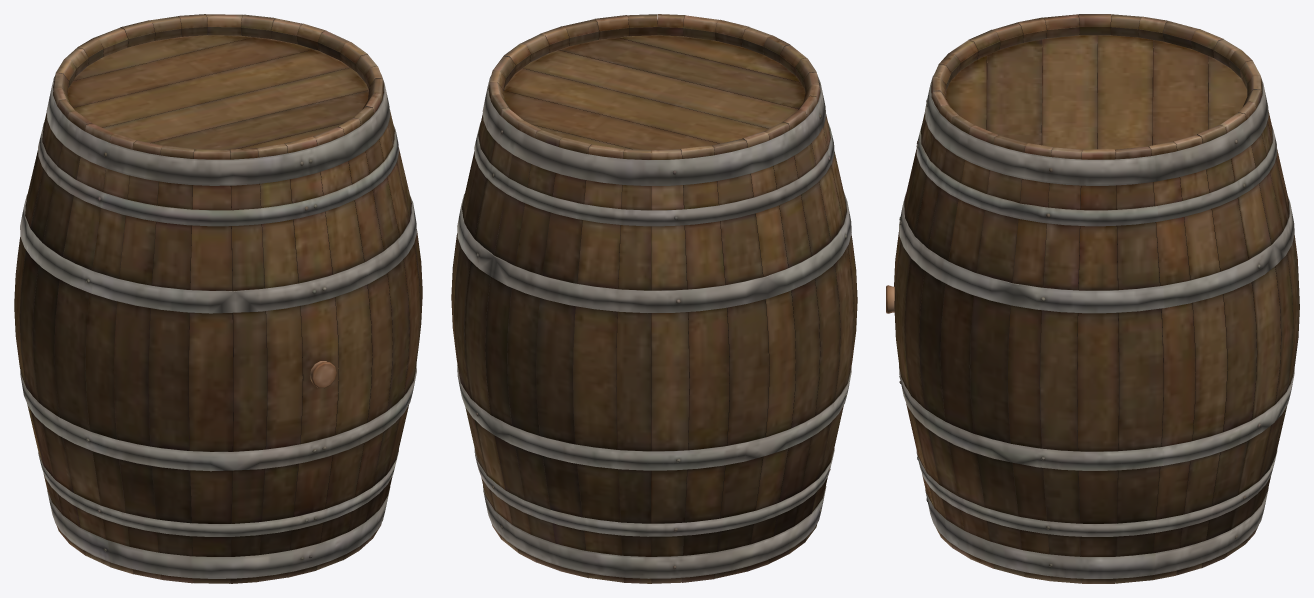
File: wine_barrel_01.glb
The picture shows the model from 3 angles, left to right: view 1: azimuth 30°, elevation 25°; view 2: azimuth 150°, elevation 25°; view 3: azimuth 270°, elevation 25°; orthographic projection.
Parts seen in each view (by area): view 1: wine_barrel_01, wine_barrel_01_Lid, wine_barrel_01_bung; view 2: wine_barrel_01, wine_barrel_01_Lid; view 3: wine_barrel_01, wine_barrel_01_Lid.
Boxes of the visible parts, bbox=[...] form: wine_barrel_01: bbox=[14, 14, 422, 583]; wine_barrel_01_Lid: bbox=[67, 35, 368, 149]; wine_barrel_01_bung: bbox=[310, 361, 336, 388]; wine_barrel_01: bbox=[451, 14, 857, 583]; wine_barrel_01_Lid: bbox=[503, 35, 805, 152]; wine_barrel_01: bbox=[894, 14, 1299, 583]; wine_barrel_01_Lid: bbox=[946, 35, 1247, 149].
Bounding box in the file's own units: 0.7419 × 0.8713 × 0.756.
Materials: 1 (1 with a texture image).
